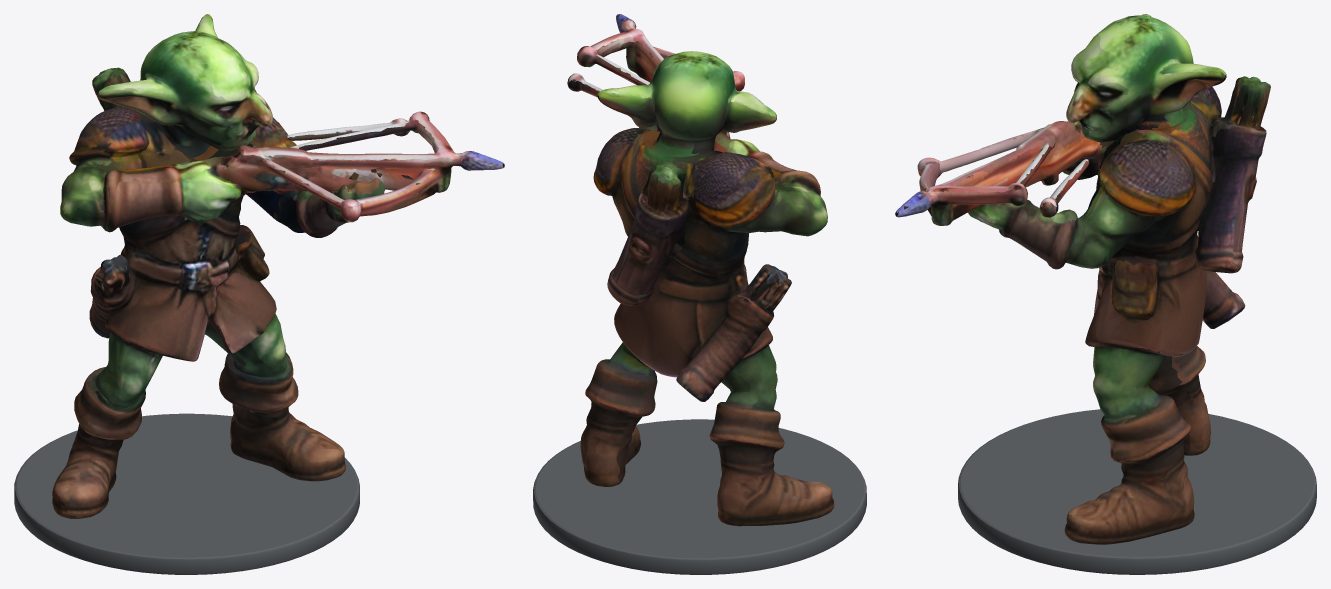
Rendered from goblin-crossbowman.glb.
The picture shows the model from 3 angles, left to right: view 1: azimuth 30°, elevation 25°; view 2: azimuth 150°, elevation 25°; view 3: azimuth 270°, elevation 25°; orthographic projection. The views are drawn at different scales.
Visible parts, largest first — view 1: goblin-crossbowman_body, goblin-crossbowman_round_base; view 2: goblin-crossbowman_body, goblin-crossbowman_round_base; view 3: goblin-crossbowman_body, goblin-crossbowman_round_base.
Part boxes in pixels (<box>): goblin-crossbowman_body: <box>52,14,504,518</box>; goblin-crossbowman_round_base: <box>14,413,359,574</box>; goblin-crossbowman_body: <box>567,14,834,526</box>; goblin-crossbowman_round_base: <box>533,419,866,574</box>; goblin-crossbowman_body: <box>895,14,1270,544</box>; goblin-crossbowman_round_base: <box>958,409,1316,574</box>.
Bounding box in the file's own units: 1.17 × 1.48 × 1.17.
2 materials, 1 textured.
